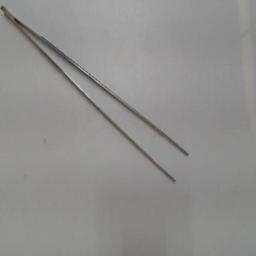DeBakey Dissector: (0, 2, 198, 194)
